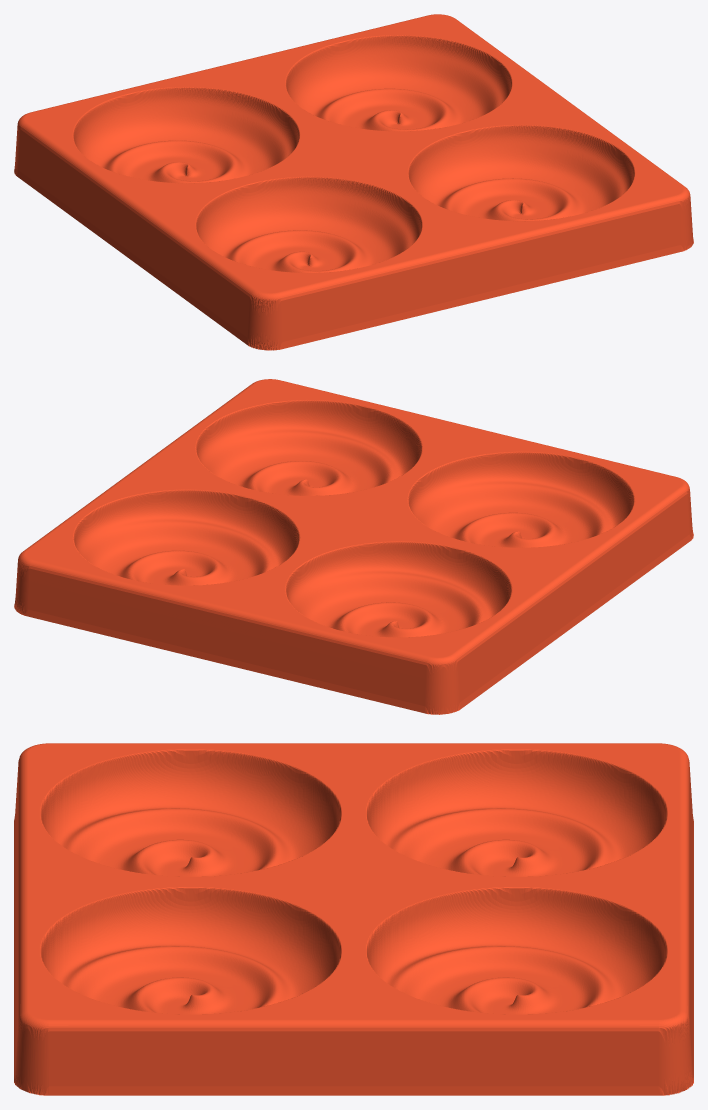
Rendered from mold.glb.
The picture shows the model from 3 angles, top to bottom: view 1: azimuth 30°, elevation 25°; view 2: azimuth 150°, elevation 25°; view 3: azimuth 270°, elevation 25°; orthographic projection. The views are drawn at different scales.
Visible parts, largest first — view 1: geometry_0; view 2: geometry_0; view 3: geometry_0.
Part boxes in pixels (x1,y1,x2,y2): geometry_0: (14,14,693,350); geometry_0: (14,379,693,714); geometry_0: (14,743,693,1095).
Bounding box in the file's own units: 0.1737 × 0.0197 × 0.1737.
